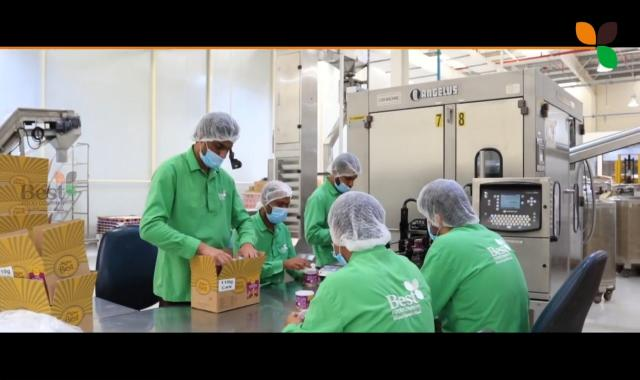hairnet: (329, 191, 392, 252), (414, 177, 478, 227), (191, 111, 239, 147), (259, 179, 293, 217), (327, 152, 361, 183)
